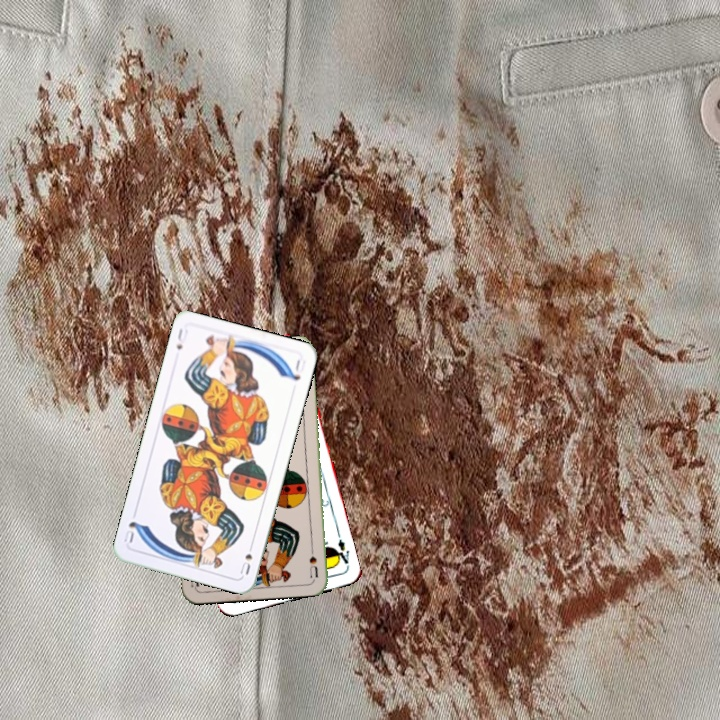EA: (330, 535, 352, 570)
SU: (236, 538, 256, 577), (305, 539, 321, 580), (172, 324, 191, 352)
